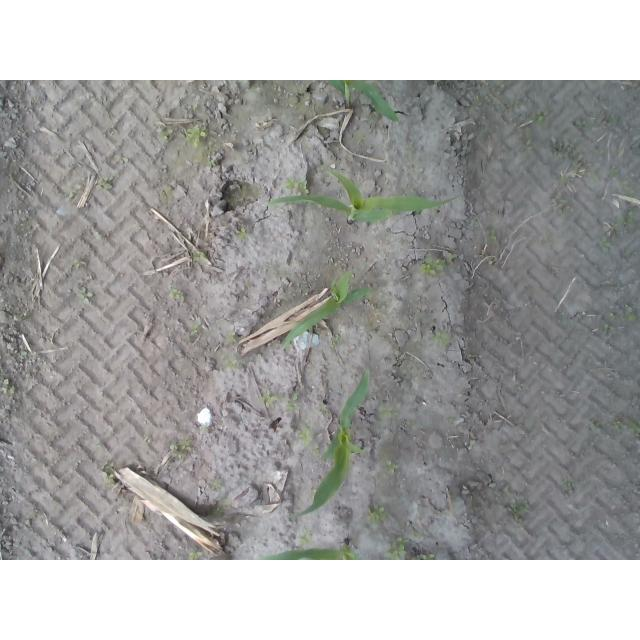Maize: (292, 363, 371, 520), (266, 166, 453, 224), (283, 269, 373, 348), (326, 80, 399, 124), (262, 537, 361, 560)
Weeds: (186, 123, 209, 148), (385, 537, 407, 560), (168, 441, 193, 460), (614, 416, 640, 432), (613, 207, 635, 225), (420, 258, 444, 274), (282, 177, 307, 192), (367, 505, 386, 523), (299, 424, 314, 445), (78, 287, 94, 306), (1, 376, 16, 396), (282, 394, 298, 411), (384, 461, 401, 476), (103, 470, 118, 486), (222, 357, 238, 371), (260, 393, 276, 407), (168, 288, 185, 301), (233, 226, 248, 240), (95, 180, 114, 191), (434, 334, 450, 347), (512, 502, 529, 514), (532, 111, 545, 123), (223, 332, 237, 343), (188, 550, 203, 560), (191, 321, 201, 335), (625, 313, 639, 323), (383, 406, 394, 418), (72, 258, 85, 268), (300, 533, 313, 543), (486, 230, 496, 241), (162, 129, 173, 139), (194, 252, 207, 260), (422, 554, 434, 560)
